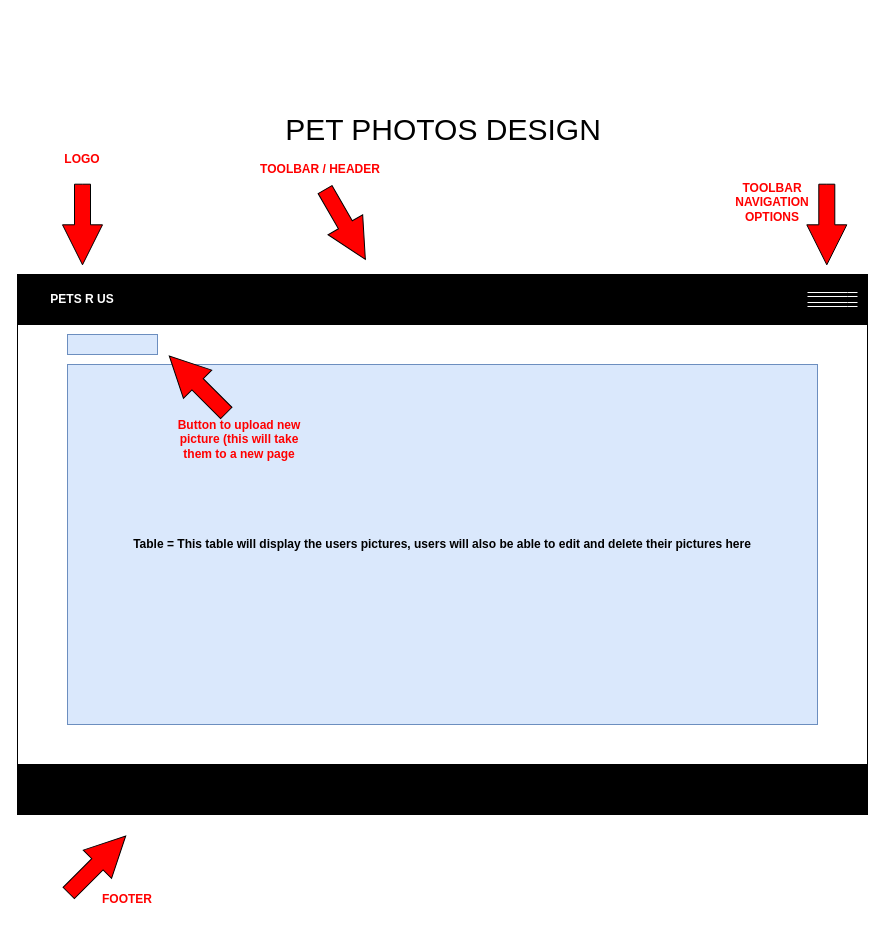
The diagram is 885 pixels wide and 932 high, and some of its shapes have lost their labels. Each missing label, with the centre of its shape:
PETS R US 2023: the point at 442,789
Upload: the point at 112,344
